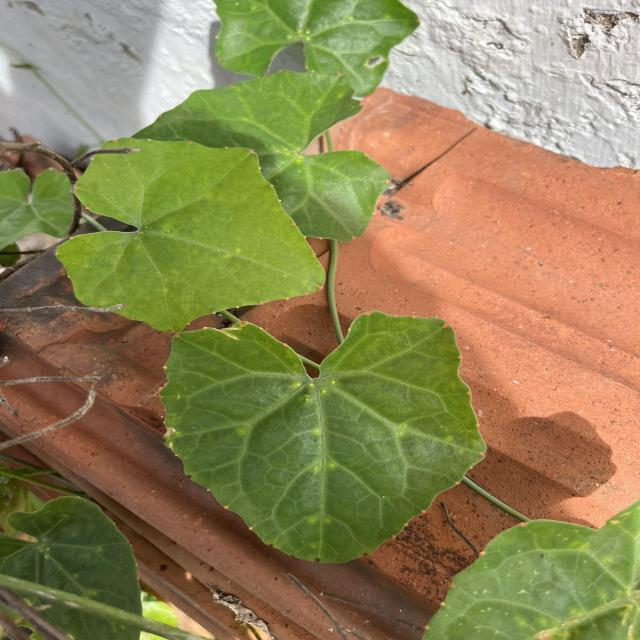Coccinia grandis: (157, 310, 491, 566), (54, 136, 328, 334)
